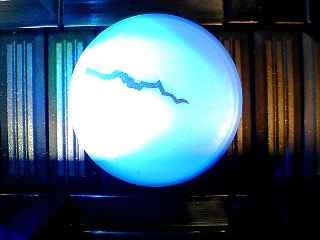CRACK: (68, 13, 243, 187)
